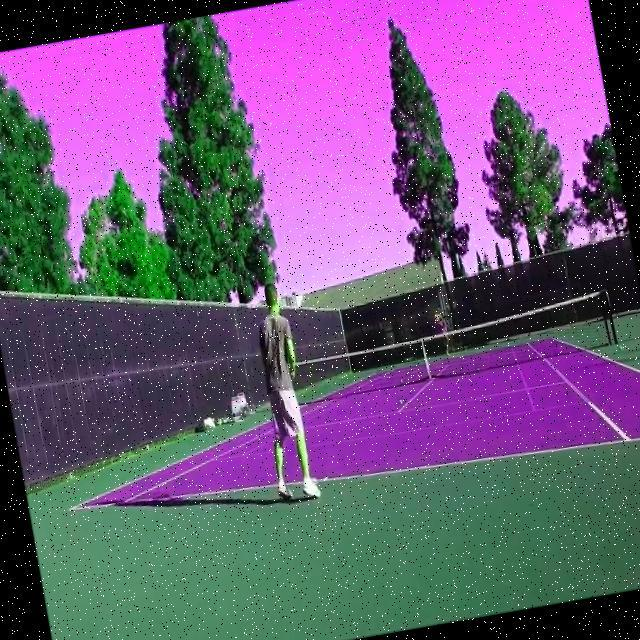court: (52, 321, 640, 541)
net: (269, 288, 621, 406)
player: (240, 280, 323, 504)
